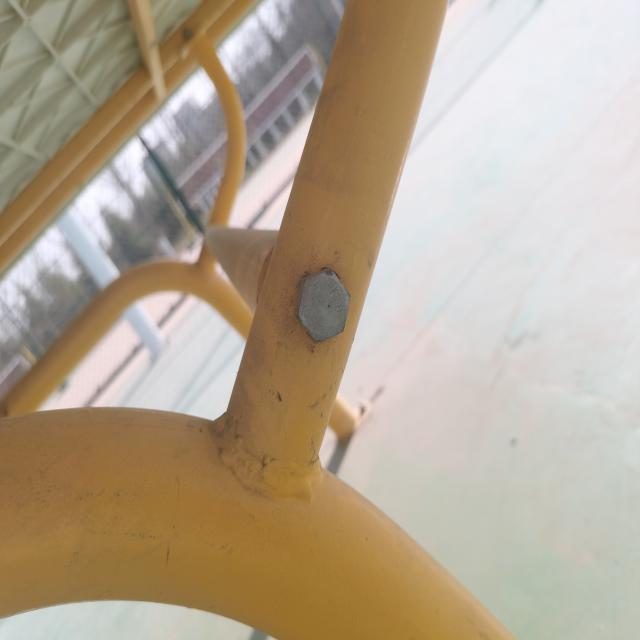bolt head: (296, 267, 351, 344)
